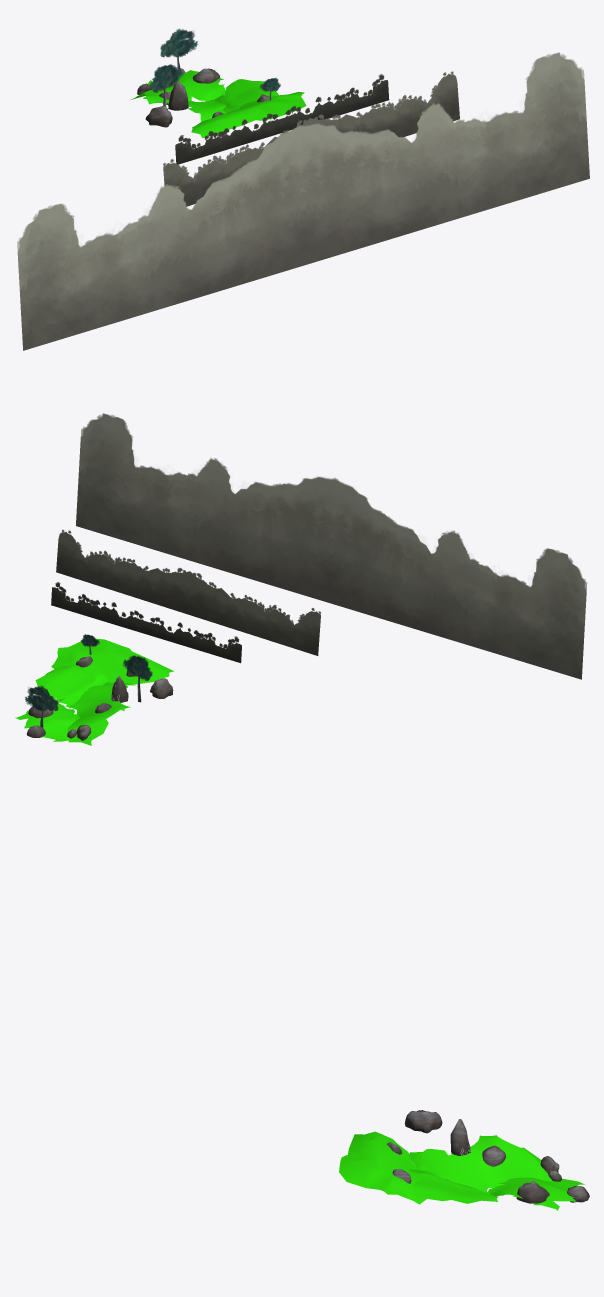
File: chapter2.glb
The picture shows the model from 3 angles, top to bottom: view 1: azimuth 30°, elevation 25°; view 2: azimuth 150°, elevation 25°; view 3: azimuth 270°, elevation 25°; orthographic projection. The views are drawn at different scales.
Parts seen in each view (by area): view 1: moutain3, moutain2, moutain1, bosse1, bosse4, bosse3, bosse2, arbre1, arbre2, entity-body; view 2: moutain3, moutain2, moutain1, bosse1, bosse2, bosse4, bosse3, arbre1, arbre2; view 3: bosse2, bosse1, bosse4, bosse3, rock-large3.
Part boxes in pixels (box(x1,y1,x2,y2)): moutain3: box(17, 52, 589, 350); moutain2: box(163, 71, 459, 206); moutain1: box(175, 74, 389, 164); bosse1: box(191, 92, 306, 138); bosse4: box(210, 79, 278, 112); bosse3: box(147, 69, 225, 101); bosse2: box(130, 89, 226, 121); arbre1: box(160, 28, 197, 70); arbre2: box(149, 64, 182, 106); entity-body: box(168, 81, 188, 110); moutain3: box(76, 413, 587, 679); moutain2: box(56, 529, 320, 655); moutain1: box(51, 582, 241, 663); bosse1: box(51, 638, 173, 684); bosse2: box(65, 682, 134, 745); bosse4: box(35, 665, 107, 708); bosse3: box(15, 703, 80, 741); arbre1: box(25, 685, 58, 727); arbre2: box(123, 655, 152, 702); bosse2: box(409, 1135, 558, 1191); bosse1: box(339, 1131, 426, 1204); bosse4: box(409, 1169, 498, 1203); bosse3: box(488, 1177, 584, 1210); rock-large3: box(404, 1110, 442, 1133).
Bounding box in the file's own units: 85.54 × 28.49 × 60.27.
Materials: 10 (9 with a texture image).
